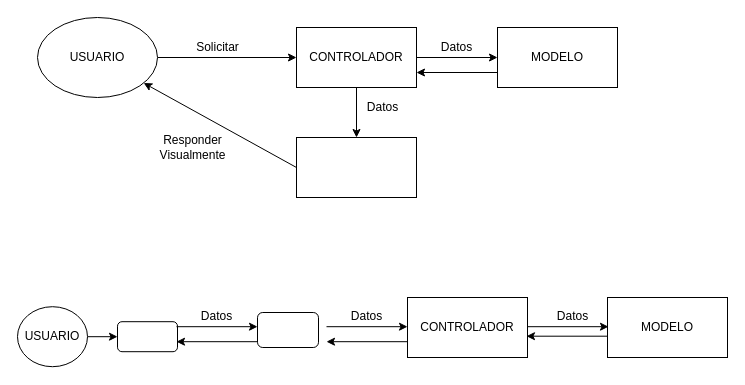
Some shapes in this 745 by 385 pixel diagram are drawn without their labels. The centre of each missing label's shape, as x and y in pixels:
"Frontend" goes at point (147, 336).
"URL / Endpoint" goes at point (287, 330).
"VISTA" goes at point (356, 167).
